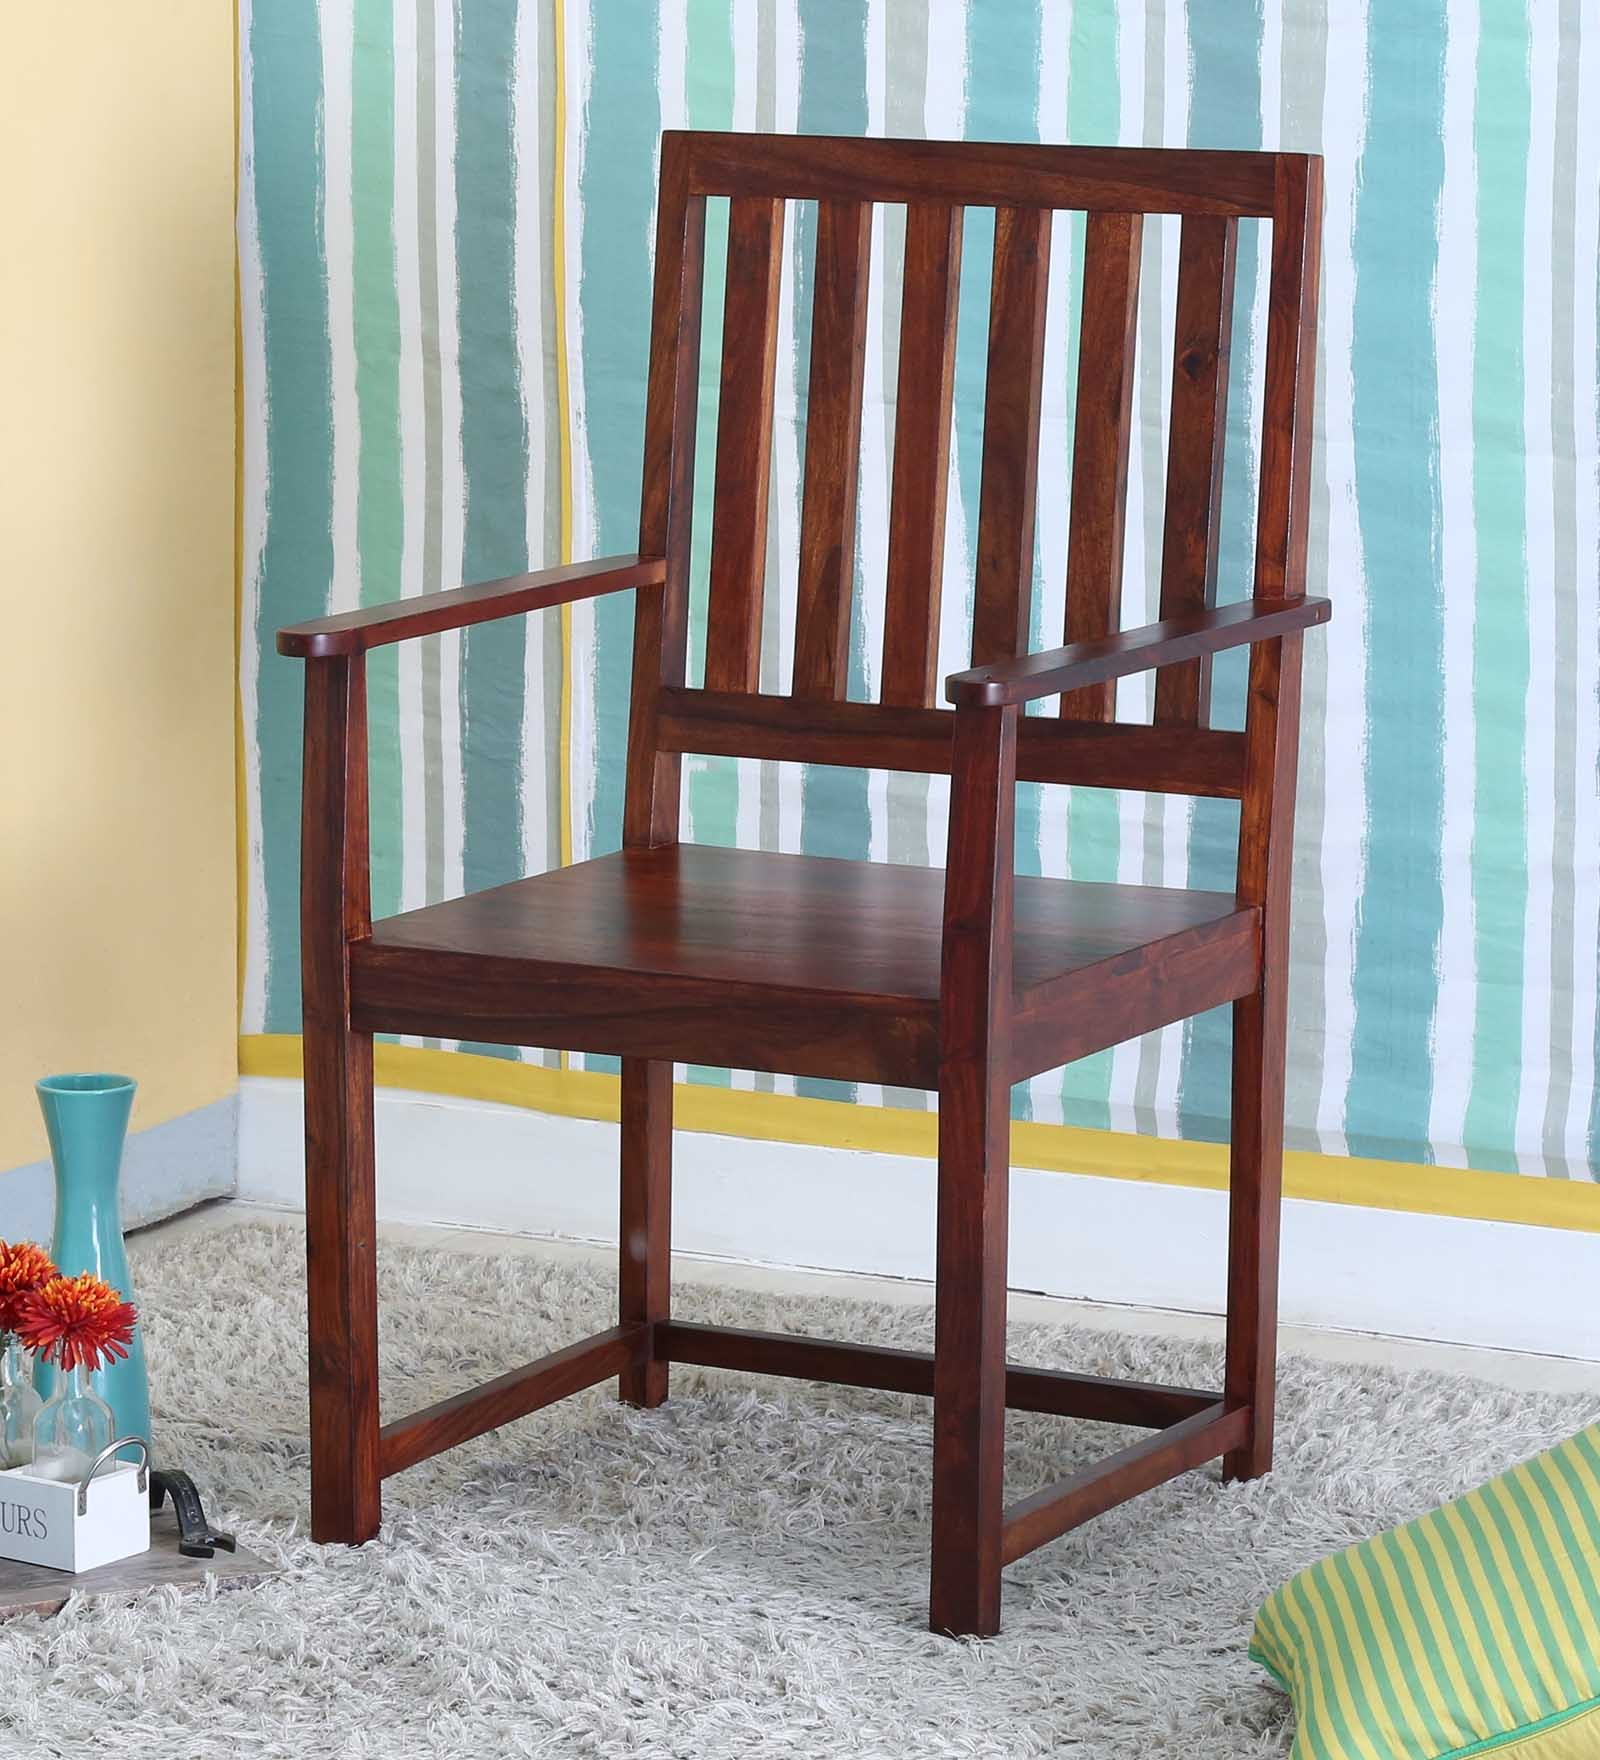Abbey Arm Chair in Honey Oak Finish by Woodsworth: (287, 94, 1338, 1653)
